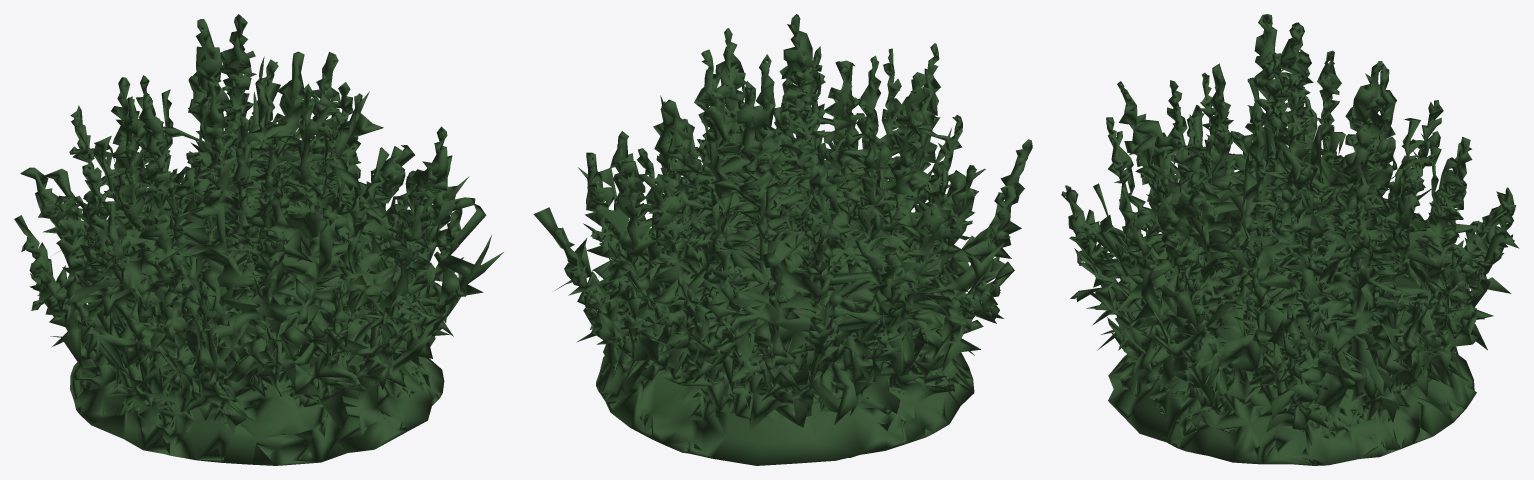
Rendered from gen-flower-clump-magenta-1.glb.
3 views of the same model, side by side, from view 1: azimuth 30°, elevation 25°; view 2: azimuth 150°, elevation 25°; view 3: azimuth 270°, elevation 25° (orthographic). The views are drawn at different scales.
Visible parts, largest first — view 1: gen-flower-clump-magenta-1_part1; view 2: gen-flower-clump-magenta-1_part1; view 3: gen-flower-clump-magenta-1_part1.
Part boxes in pixels (bbox=[...]): gen-flower-clump-magenta-1_part1: bbox=[14, 14, 503, 465]; gen-flower-clump-magenta-1_part1: bbox=[533, 14, 1032, 465]; gen-flower-clump-magenta-1_part1: bbox=[1061, 14, 1519, 465].
Size of the model in its own units: 718 by 600 by 690.
